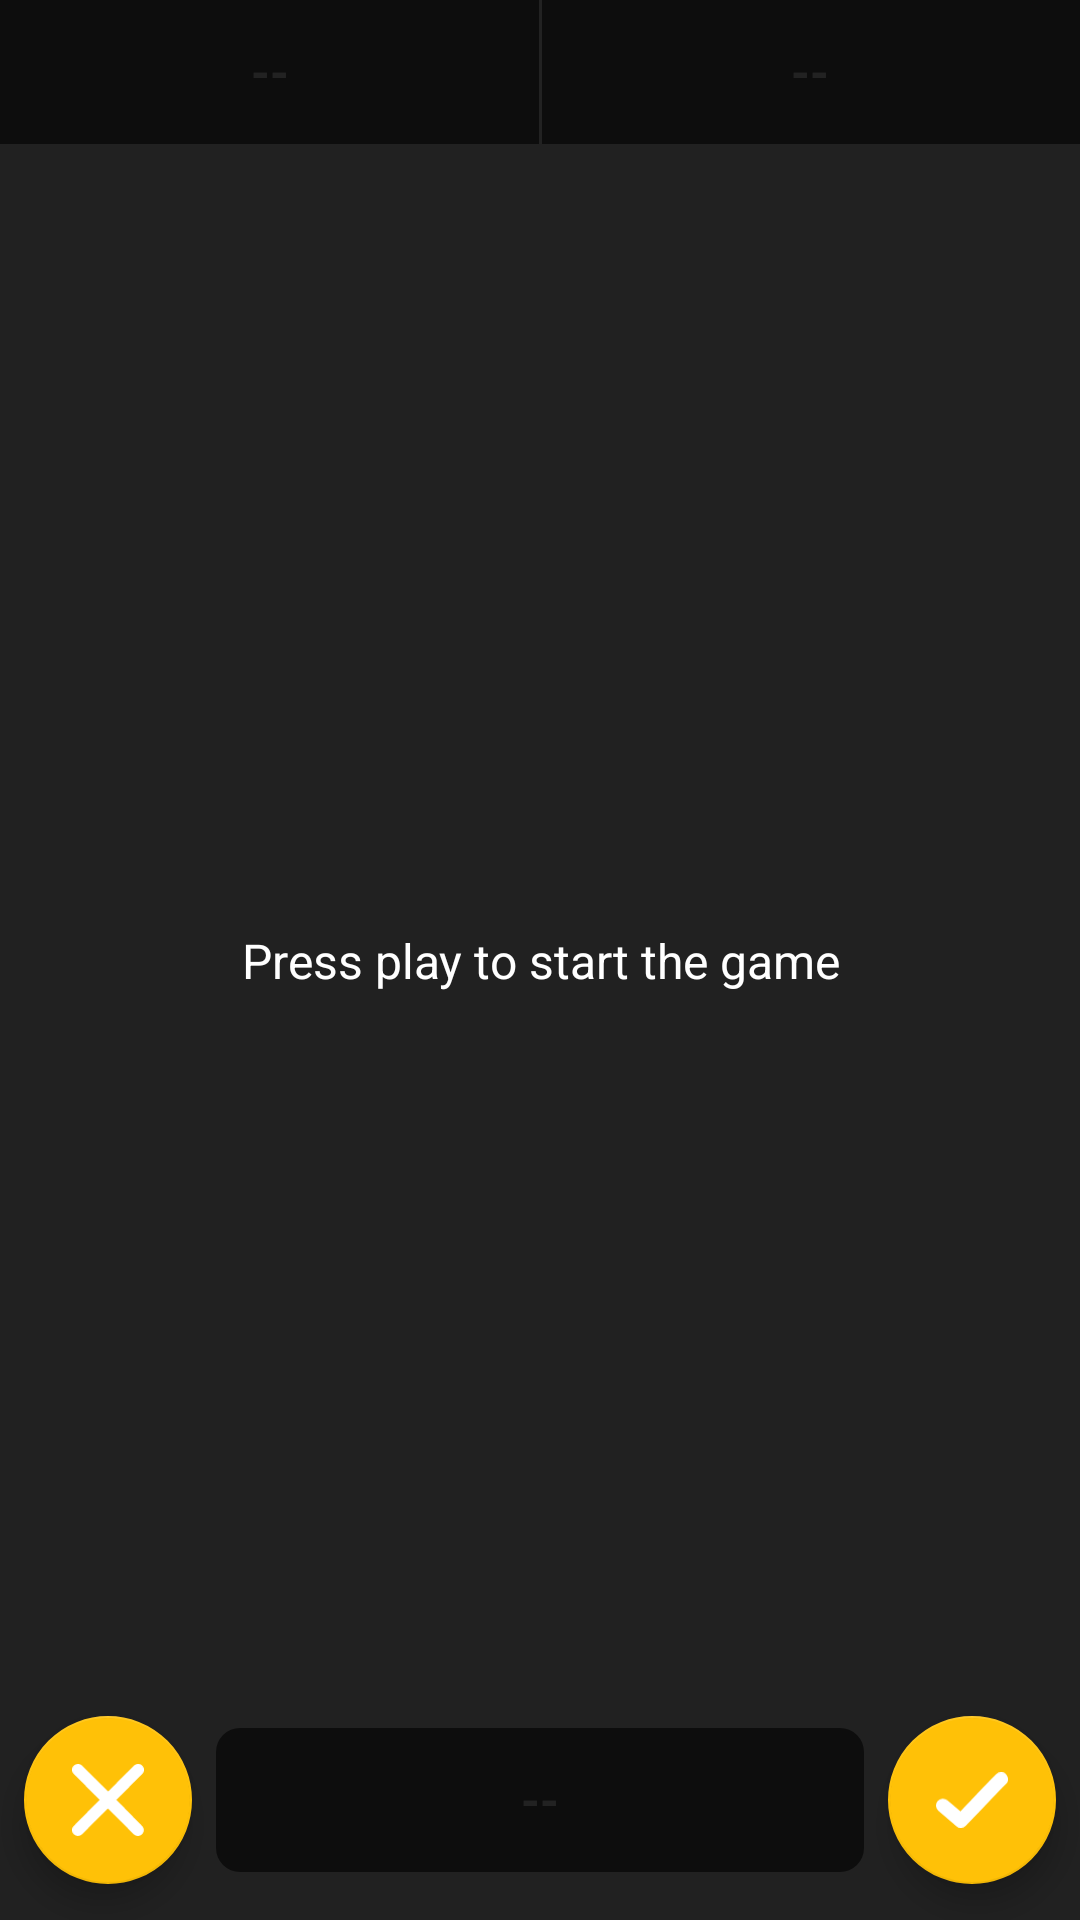

Where to tap for icons on this 1080 × 1920 app screen, as [x,y]:
cancel: [108,1800]
check: [972,1800]
